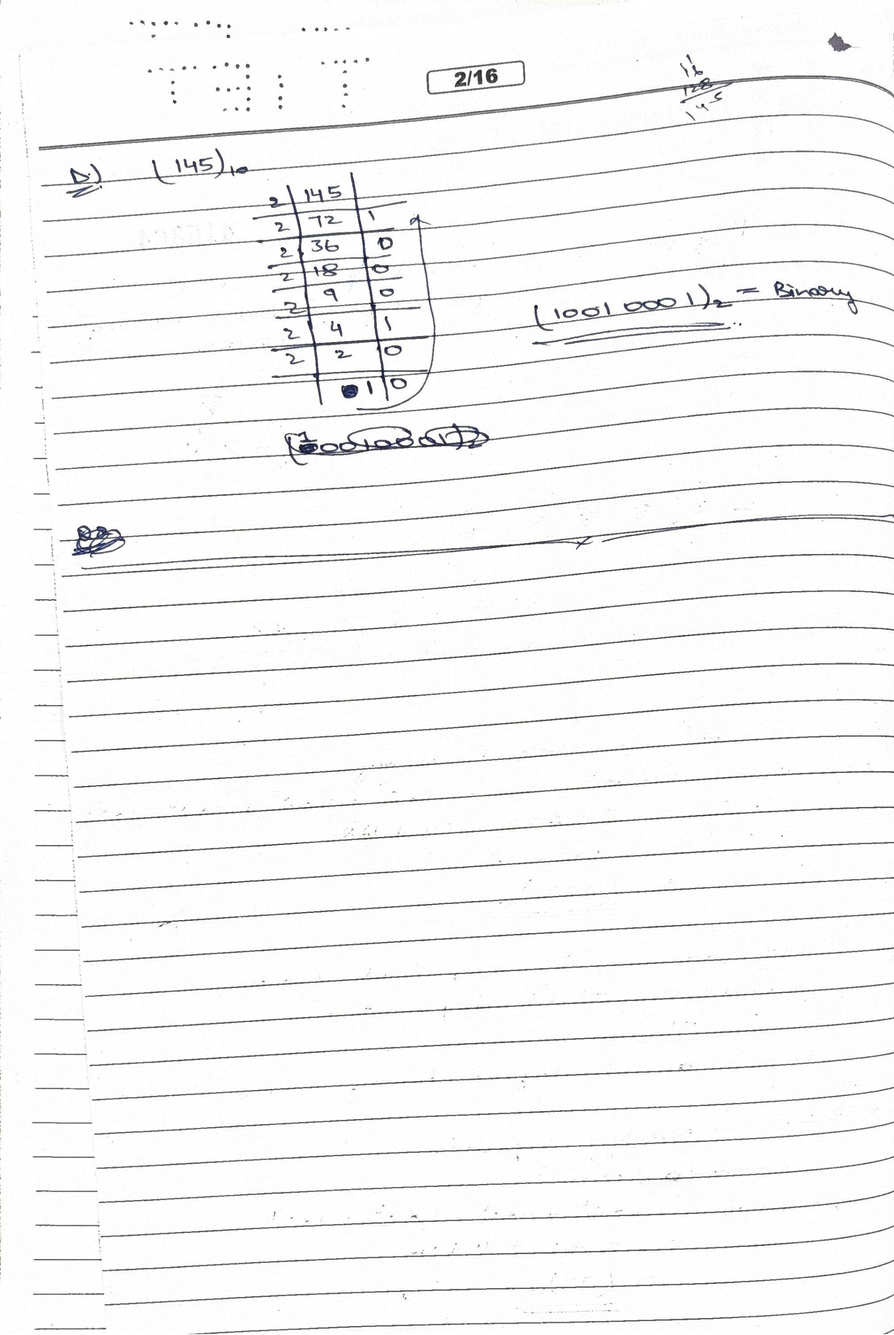cuttings: (280, 421, 495, 468), (70, 523, 127, 559), (341, 384, 360, 399)
